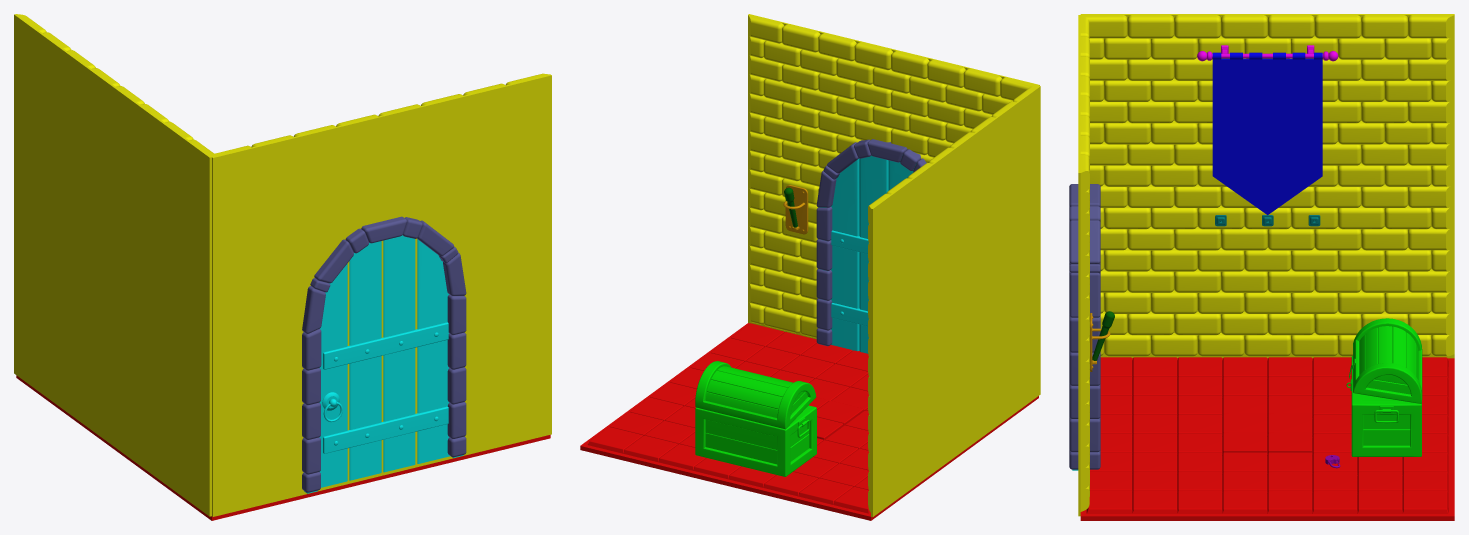
File: TrapRooom.fbx
The picture shows the model from 3 angles, left to right: view 1: azimuth 30°, elevation 25°; view 2: azimuth 150°, elevation 25°; view 3: azimuth 270°, elevation 25°; orthographic projection. The views are drawn at different scales.
Visible parts, largest first — view 1: Murs, Porte, CadrePorte, Plancher; view 2: Murs, Plancher, Coffre, Porte, CadrePorte, SupportTorche; view 3: Murs, Plancher, Banniere, Coffre, CadrePorte, Pole.
Boxes of the visible parts, bbox=[...] form: Murs: bbox=[14, 14, 551, 516]; Porte: bbox=[304, 235, 463, 493]; CadrePorte: bbox=[302, 216, 466, 492]; Plancher: bbox=[16, 375, 550, 520]; Murs: bbox=[748, 14, 1040, 517]; Plancher: bbox=[580, 323, 1038, 520]; Coffre: bbox=[695, 361, 816, 476]; Porte: bbox=[819, 155, 916, 353]; CadrePorte: bbox=[816, 139, 926, 346]; SupportTorche: bbox=[783, 185, 808, 234]; Murs: bbox=[1078, 14, 1454, 516]; Plancher: bbox=[1080, 357, 1454, 520]; Banniere: bbox=[1212, 52, 1322, 215]; Coffre: bbox=[1346, 318, 1422, 456]; CadrePorte: bbox=[1069, 184, 1100, 469]; Pole: bbox=[1197, 45, 1338, 61].
Bounding box in the file's own units: 161 × 164 × 165.
